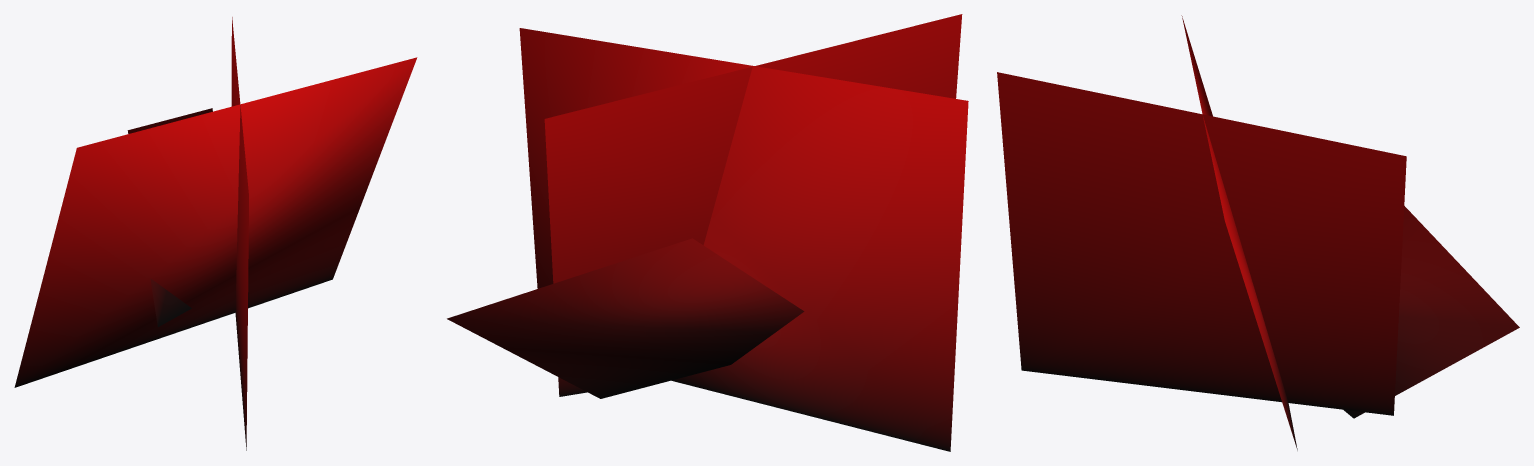
The picture shows the model from 3 angles, left to right: view 1: azimuth 30°, elevation 25°; view 2: azimuth 150°, elevation 25°; view 3: azimuth 270°, elevation 25°; orthographic projection. The views are drawn at different scales.
Parts seen in each view (by area): view 1: bladderWrack2.003; view 2: bladderWrack2.003; view 3: bladderWrack2.003.
Boxes of the visible parts, bbox=[...] form: bladderWrack2.003: bbox=[14, 17, 417, 450]; bladderWrack2.003: bbox=[447, 14, 968, 451]; bladderWrack2.003: bbox=[997, 15, 1519, 450].
Size of the model in its own units: 2.71 by 1.85 by 2.89.
